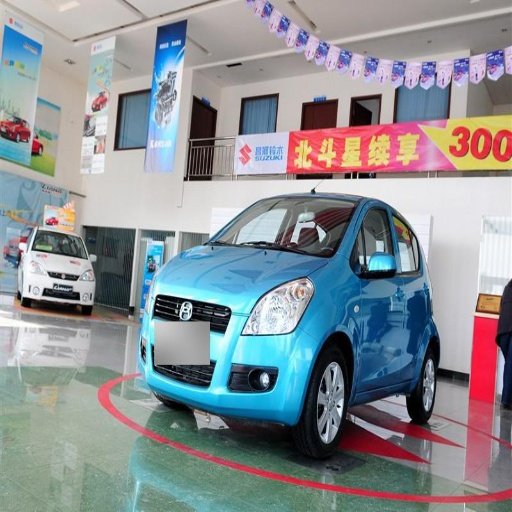back_glass: (222, 1, 273, 41)
front_bumper: (138, 287, 316, 422)
front_glass: (208, 195, 359, 257)
front_left_door: (358, 202, 402, 388)
tailgate: (339, 15, 509, 78)
trunk: (235, 45, 352, 101)
